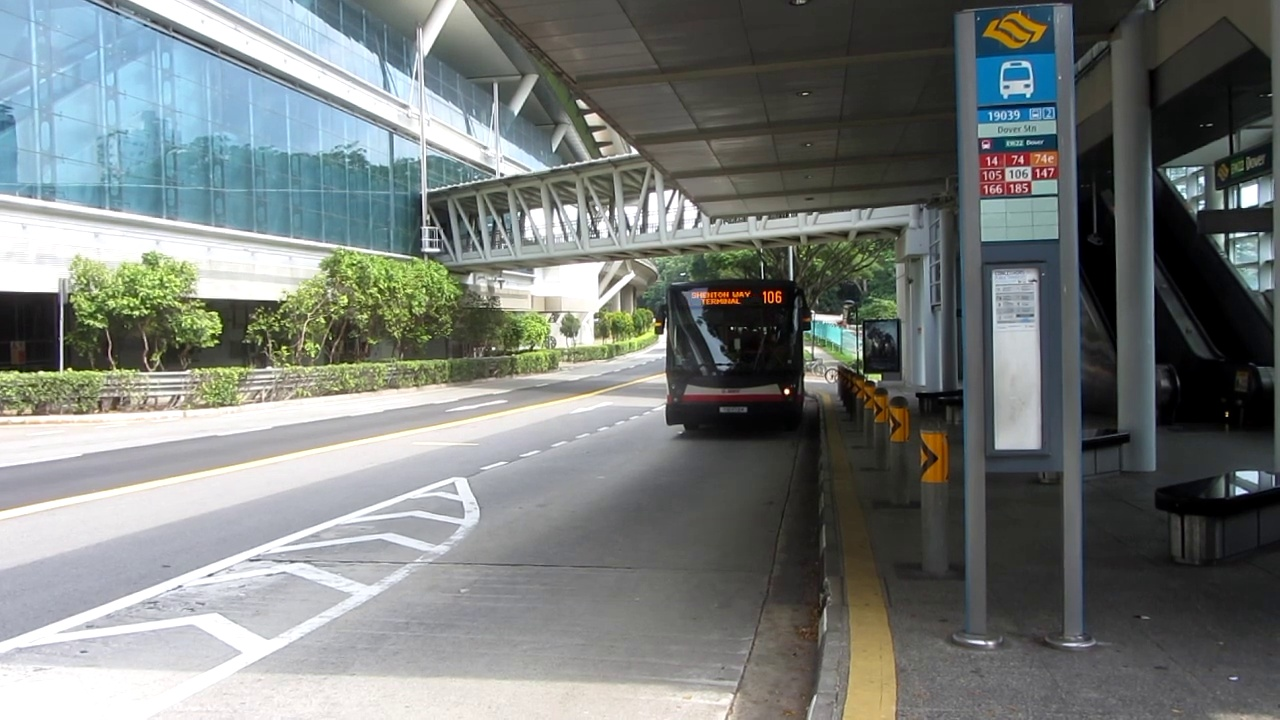bus panel: (688, 288, 785, 307)
